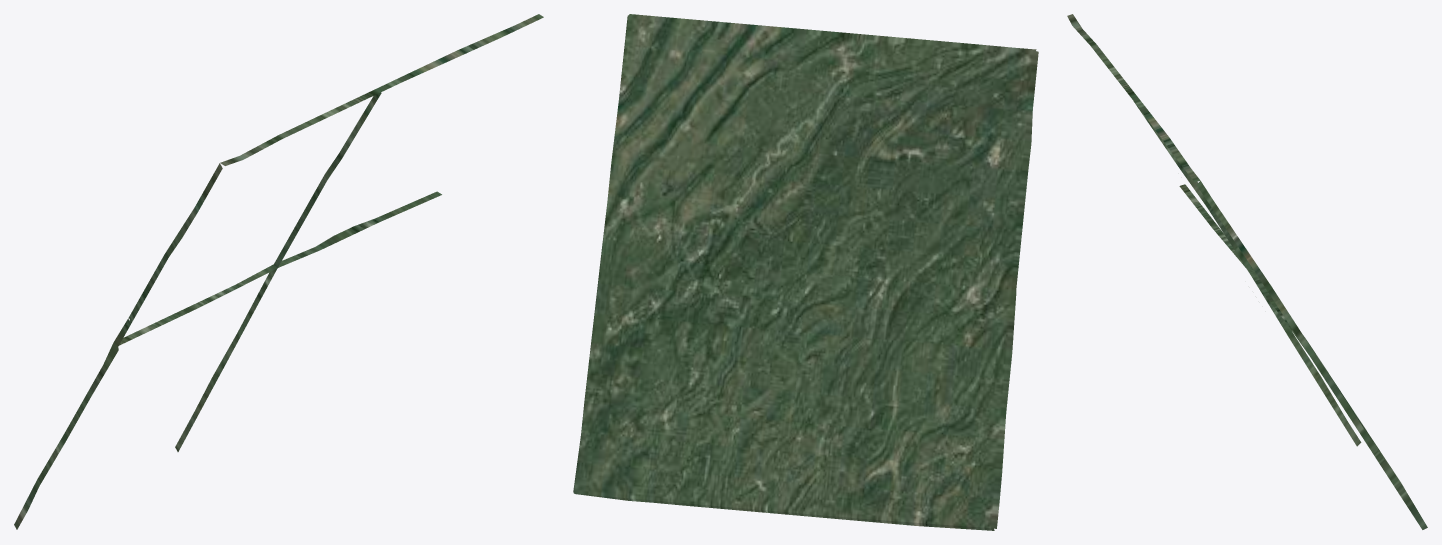
The picture shows the model from 3 angles, left to right: view 1: azimuth 30°, elevation 25°; view 2: azimuth 150°, elevation 25°; view 3: azimuth 270°, elevation 25°; orthographic projection. The views are drawn at different scales.
Bounding box in the file's own units: 310973 × 276190 × 236392.
1 material, 1 textured.
